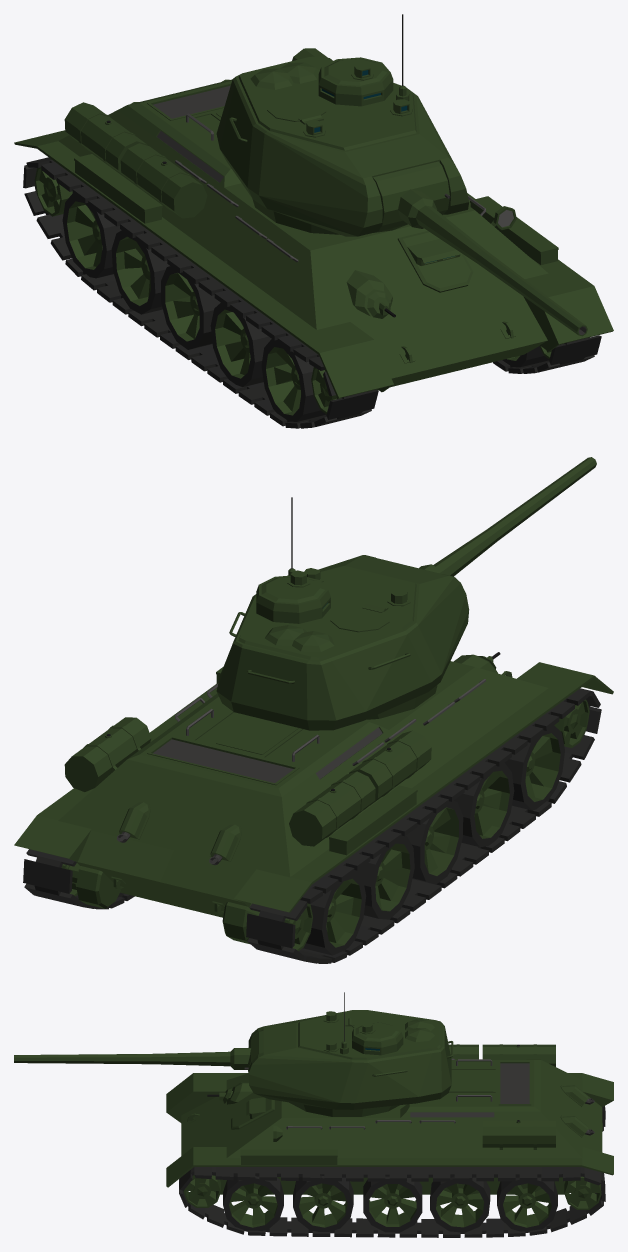
3 views of the same model, one above another, from view 1: azimuth 30°, elevation 25°; view 2: azimuth 150°, elevation 25°; view 3: azimuth 270°, elevation 25° (orthographic). The views are drawn at different scales.
Visible parts, largest first — view 1: Hull, Turret, TrackR, Gun, WheelR2, WheelR3, WheelR4, WheelR5, WheelR6, TrackL, SprocketR, WheelR1; view 2: Hull, Turret, TrackR, WheelR6, WheelR2, WheelR3, Gun, WheelR5, WheelR4, TrackL, WheelR1; view 3: Hull, Turret, TrackL, Gun, WheelL2, WheelL5, WheelL3, WheelL4, WheelL6, SprocketL, WheelL1.
Part boxes in pixels (left/top/right/bottom): Hull: left=14, top=48, right=613, bottom=398; Turret: left=216, top=14, right=469, bottom=236; TrackR: left=23, top=157, right=378, bottom=428; Gun: left=373, top=161, right=587, bottom=336; WheelR2: left=261, top=339, right=326, bottom=422; WheelR3: left=210, top=303, right=271, bottom=386; WheelR4: left=161, top=266, right=220, bottom=349; WheelR5: left=111, top=230, right=169, bottom=314; WheelR6: left=62, top=194, right=121, bottom=278; TrackL: left=493, top=335, right=601, bottom=373; SprocketR: left=34, top=167, right=72, bottom=216; WheelR1: left=311, top=367, right=340, bottom=414; Hull: left=14, top=652, right=613, bottom=943; Turret: left=216, top=497, right=469, bottom=730; TrackR: left=246, top=688, right=601, bottom=963; WheelR6: left=303, top=870, right=366, bottom=955; WheelR2: left=504, top=725, right=564, bottom=810; WheelR3: left=454, top=763, right=514, bottom=847; Gun: left=376, top=457, right=596, bottom=576; WheelR5: left=355, top=835, right=414, bottom=919; WheelR4: left=406, top=800, right=463, bottom=884; TrackL: left=23, top=849, right=134, bottom=909; WheelR1: left=554, top=699, right=589, bottom=747; Hull: left=166, top=1044, right=613, bottom=1194; Turret: left=248, top=992, right=453, bottom=1116; TrackL: left=179, top=1167, right=605, bottom=1237; Gun: left=14, top=1030, right=263, bottom=1072; WheelL2: left=223, top=1176, right=283, bottom=1231; WheelL5: left=430, top=1176, right=490, bottom=1232; WheelL3: left=293, top=1175, right=353, bottom=1231; WheelL4: left=363, top=1176, right=422, bottom=1232; WheelL6: left=497, top=1177, right=557, bottom=1232; SprocketL: left=564, top=1176, right=601, bottom=1209; WheelL1: left=183, top=1175, right=220, bottom=1207.
Size of what is drawn, in the model's own units: 318 by 351 by 872.
